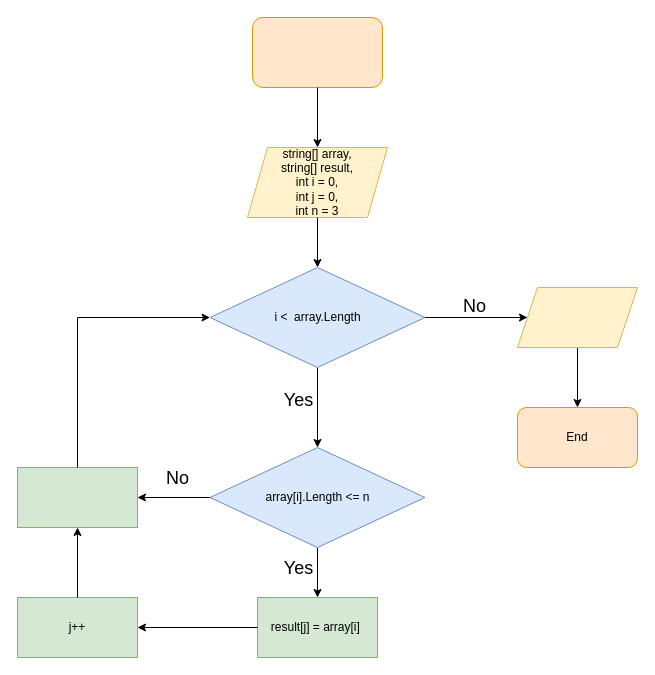
This 655x675 diagram has some shape labels left out. The shapes that lost their labels are listed below. From the top down, each one's centre as x and y in pixels, then its label:
pixel 317 52: Start
pixel 577 317: result
pixel 77 497: i++
